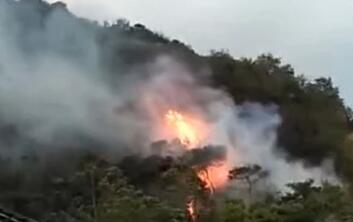fire: (163, 109, 229, 191), (185, 199, 204, 217)
smoke: (1, 0, 340, 201)
